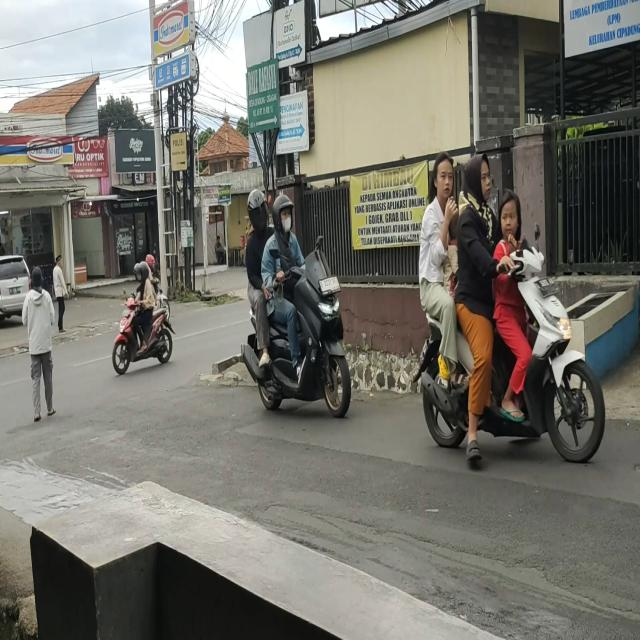helmet: (274, 191, 295, 236), (247, 190, 266, 230), (136, 264, 150, 280), (148, 254, 156, 269)
no-helmet: (463, 152, 492, 211), (499, 192, 522, 239), (432, 159, 456, 198)
